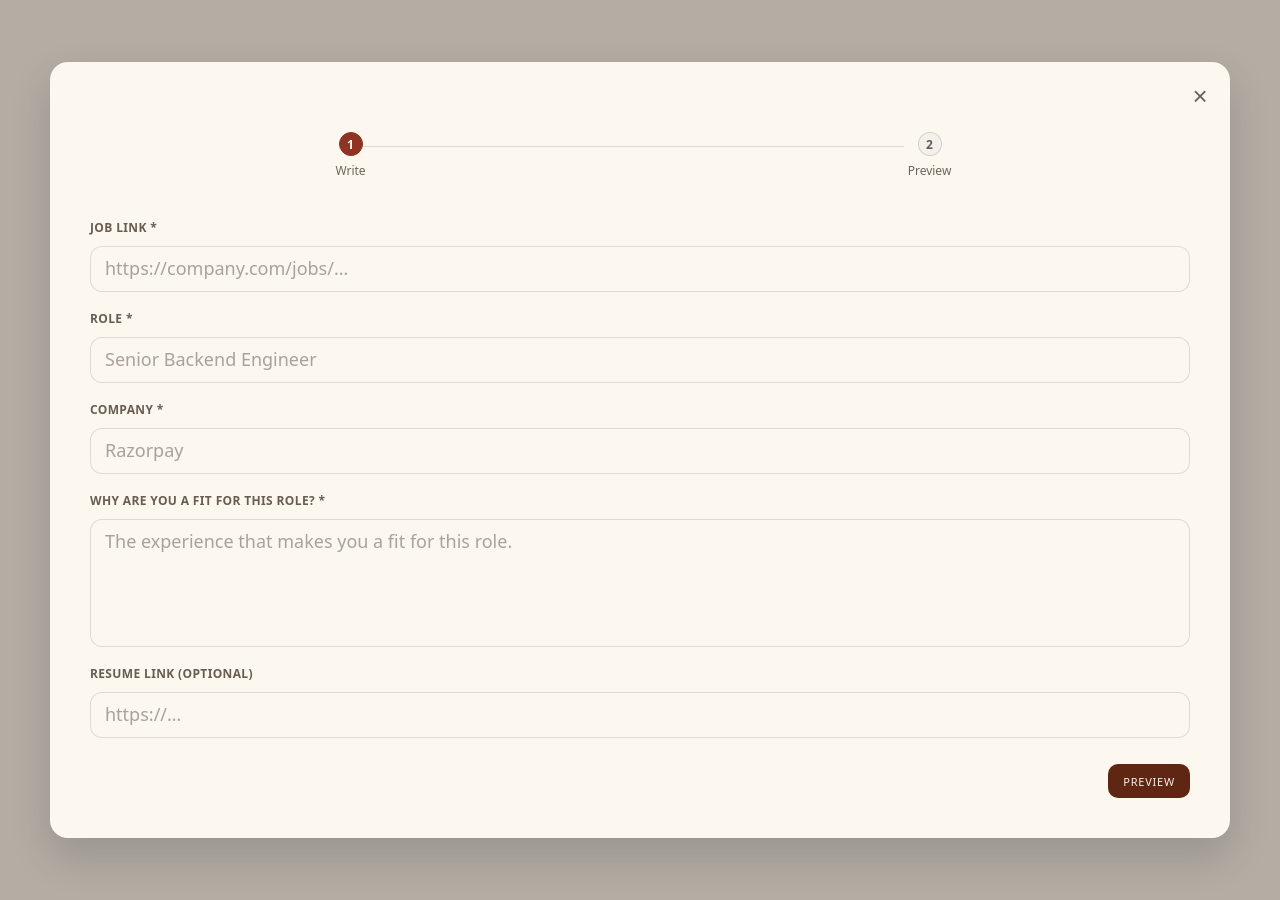
it: approved referral compose form › requires company and the fit answer
The image size is (1280, 900).
Type "https://example.com/jobs/123" into the field labelled "Job link *" at (640, 269), box left=90, top=246, right=1190, bottom=292
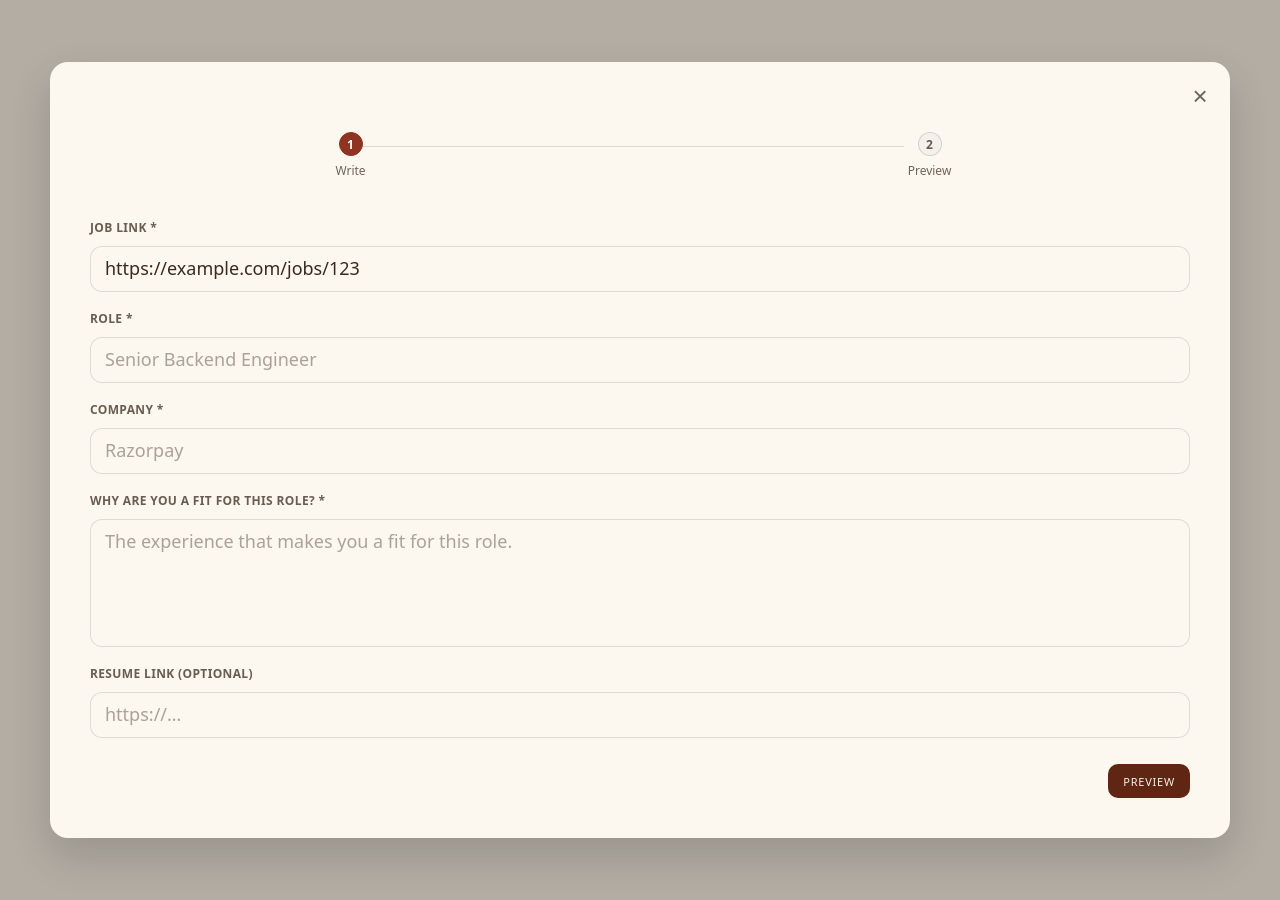
Type "Backend Engineer" into the field labelled "Role *" at (640, 360), box left=90, top=337, right=1190, bottom=383
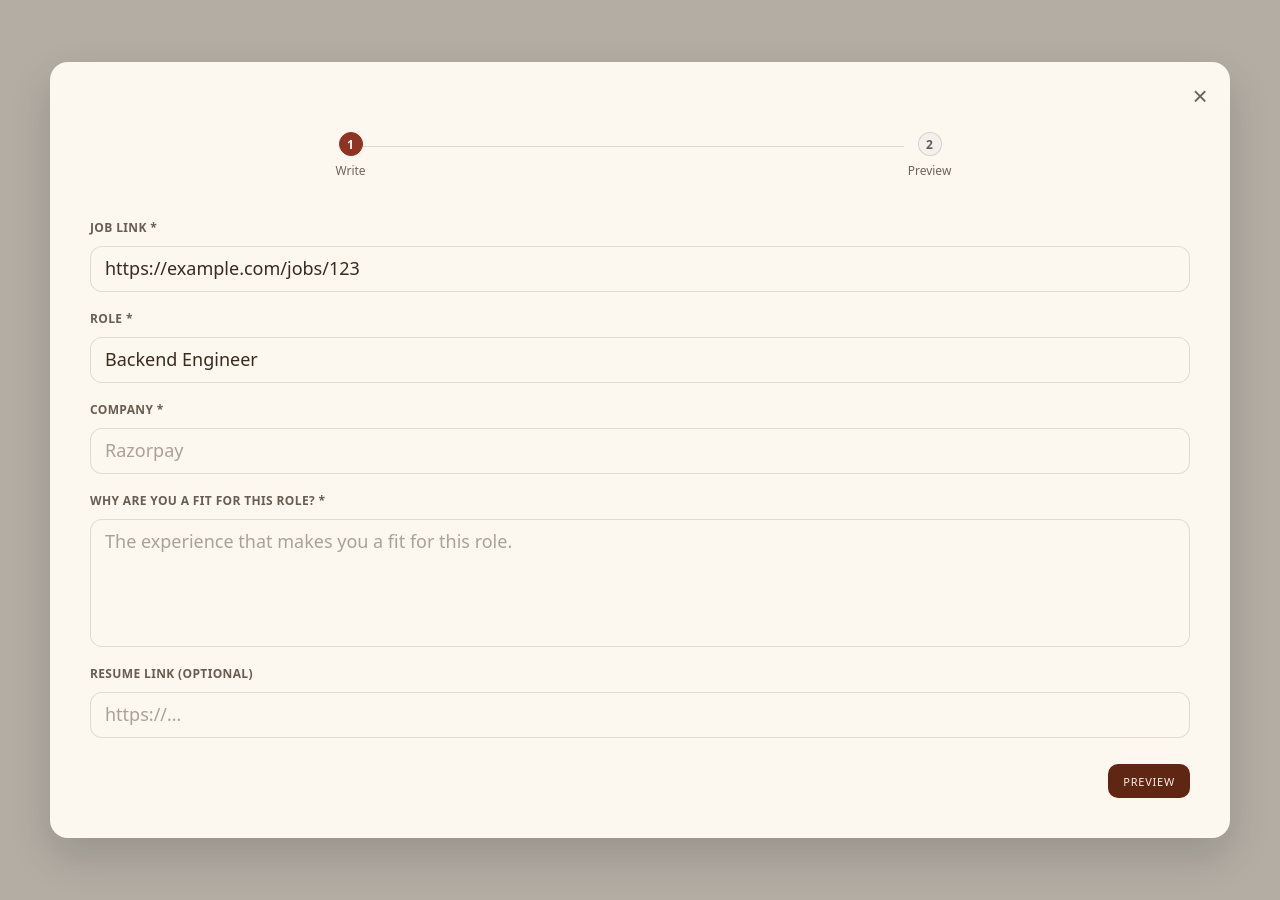
Click the button "Preview" at (1149, 781), box left=1108, top=764, right=1190, bottom=798
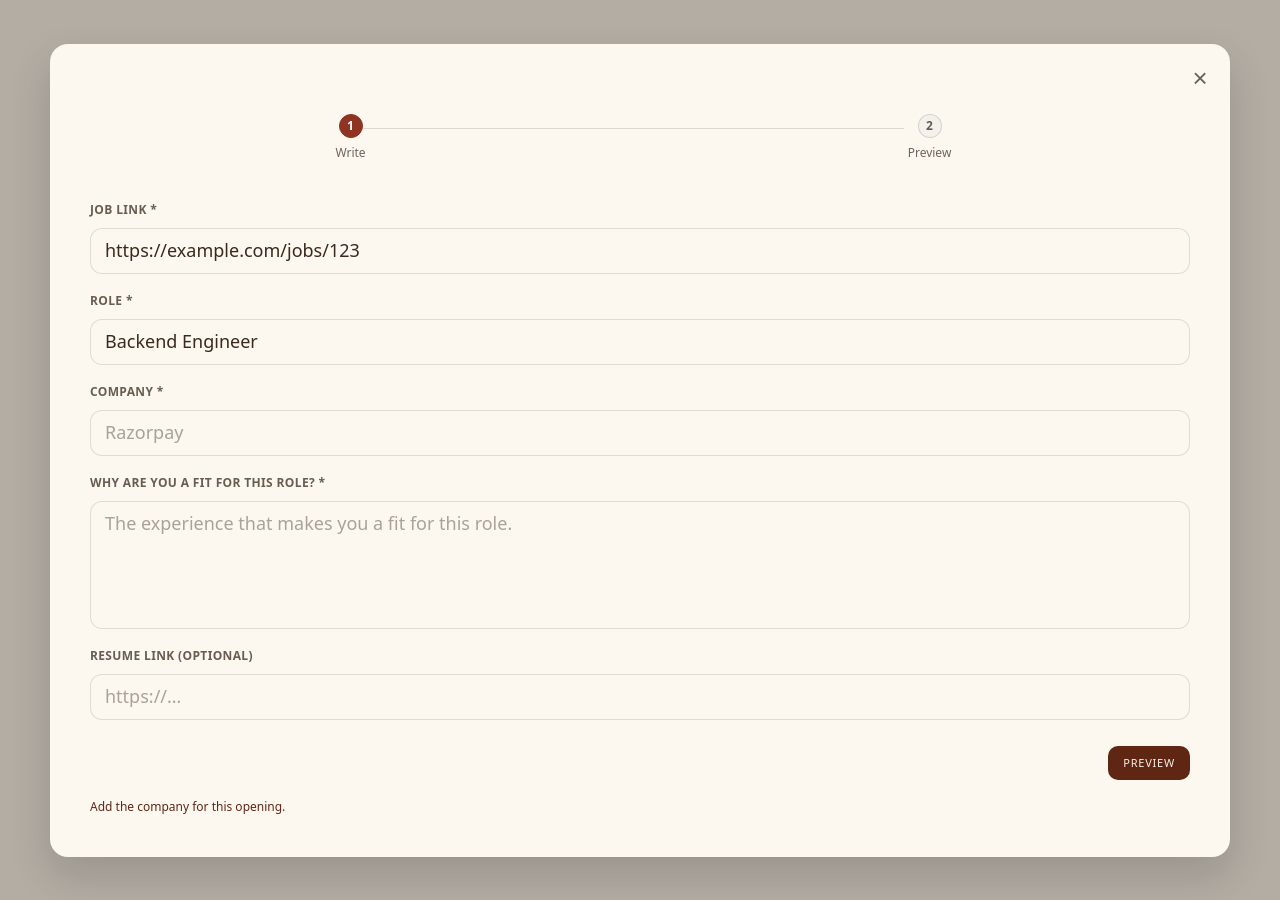
Expected: the message shows "company", left=90, top=798, right=285, bottom=814
Type "Example Co" into the field labelled "Company *" at (640, 432), box left=90, top=410, right=1190, bottom=456
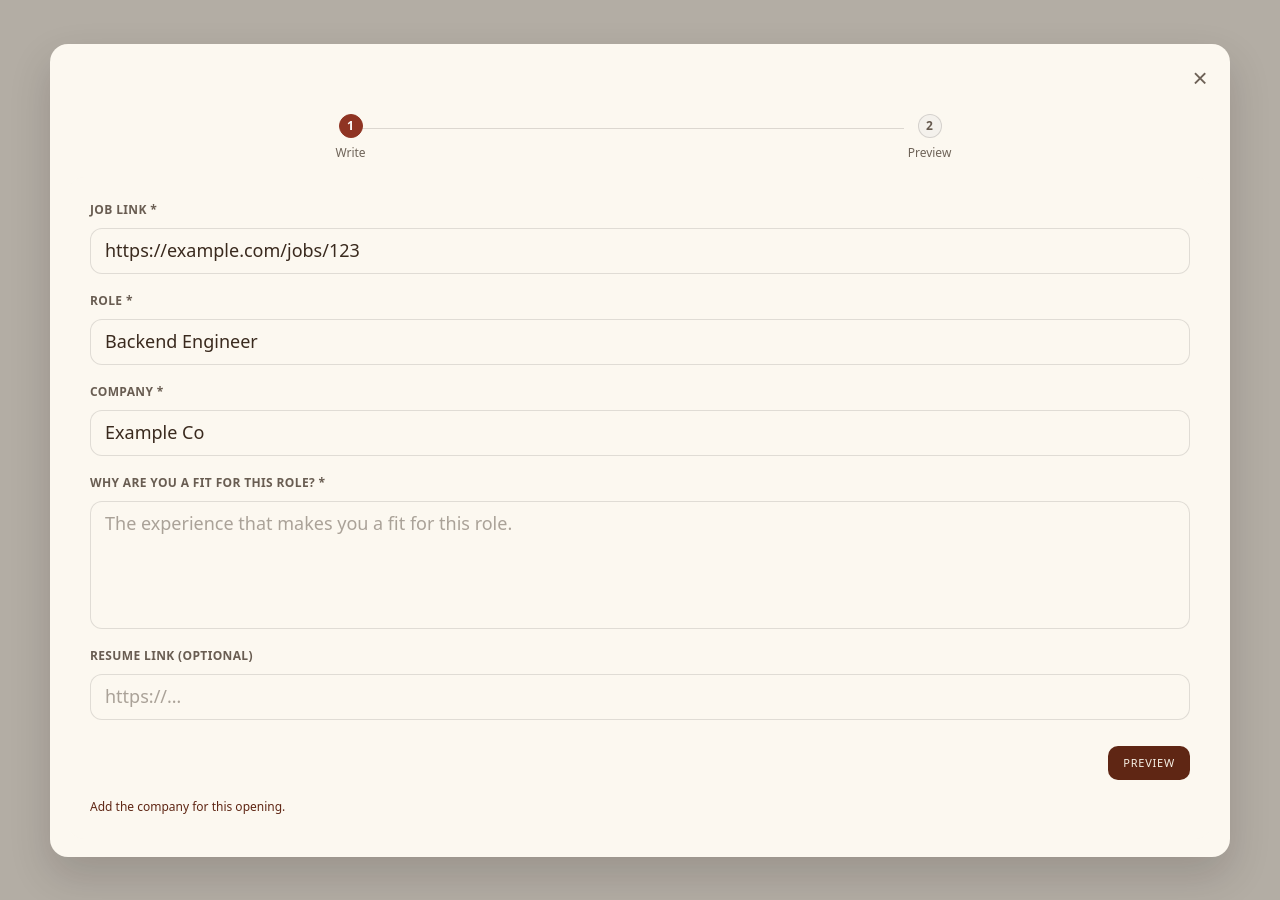
Click the button "Preview" at (1149, 762), box left=1108, top=746, right=1190, bottom=780
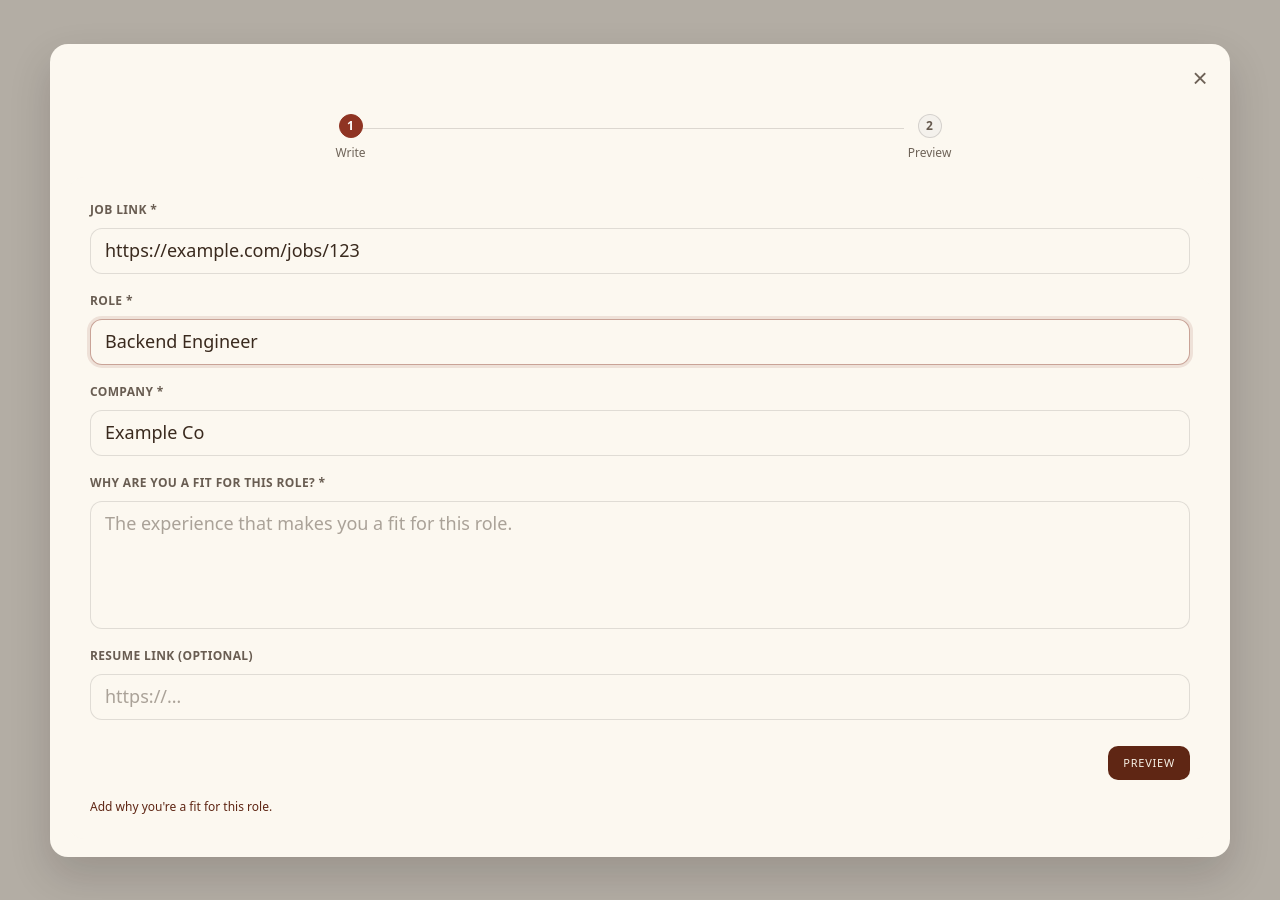
Expected: the message shows "fit", left=90, top=798, right=272, bottom=814
